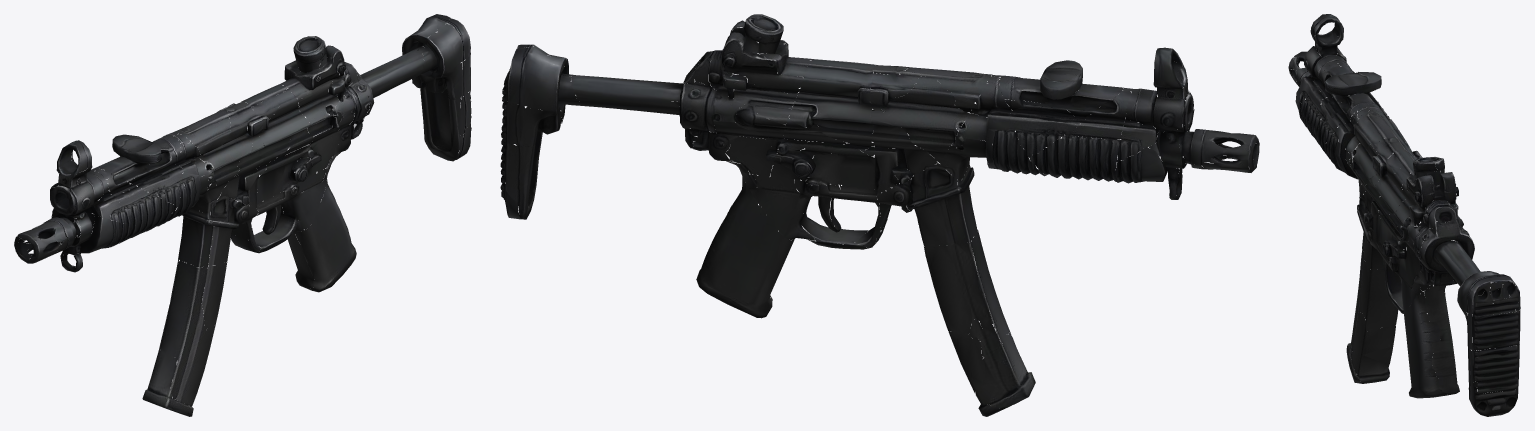
File: smg.glb
3 views of the same model, side by side, from view 1: azimuth 30°, elevation 25°; view 2: azimuth 150°, elevation 25°; view 3: azimuth 270°, elevation 25° (orthographic). The views are drawn at different scales.
Visible parts, largest first — view 1: tripo_node_aa39740d-3f5f-478f-b128-57674243b944; view 2: tripo_node_aa39740d-3f5f-478f-b128-57674243b944; view 3: tripo_node_aa39740d-3f5f-478f-b128-57674243b944.
Boxes of the visible parts, x1,y1,x2,y2 form: tripo_node_aa39740d-3f5f-478f-b128-57674243b944: (14, 14, 471, 416); tripo_node_aa39740d-3f5f-478f-b128-57674243b944: (500, 14, 1259, 416); tripo_node_aa39740d-3f5f-478f-b128-57674243b944: (1288, 14, 1520, 416).
Bounding box in the file's own units: 1 × 0.561 × 0.3836.
Materials: 1 (1 with a texture image).
